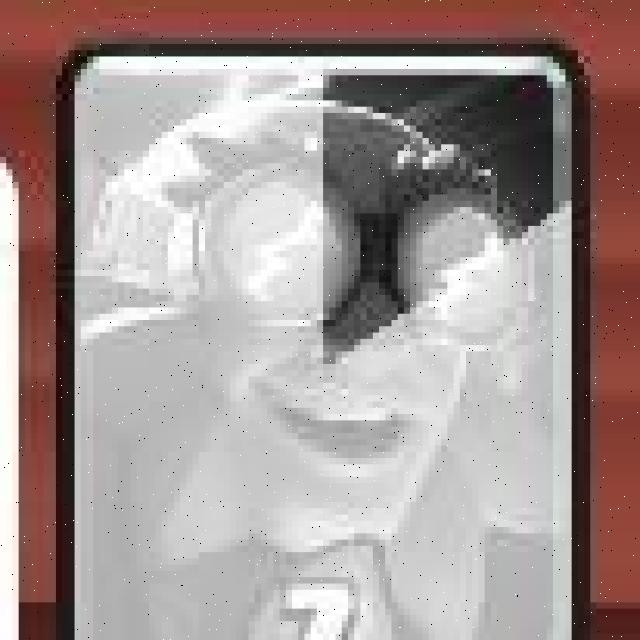Electro_Giant: (54, 42, 590, 640)
